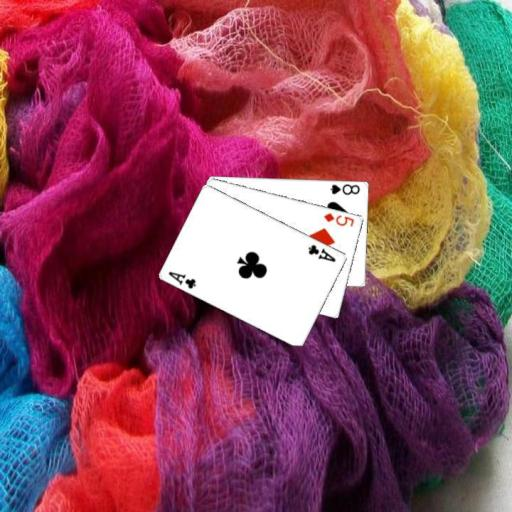5D: (321, 210, 356, 228)
8S: (327, 181, 361, 196)
AC: (305, 241, 337, 264), (166, 268, 198, 290)
